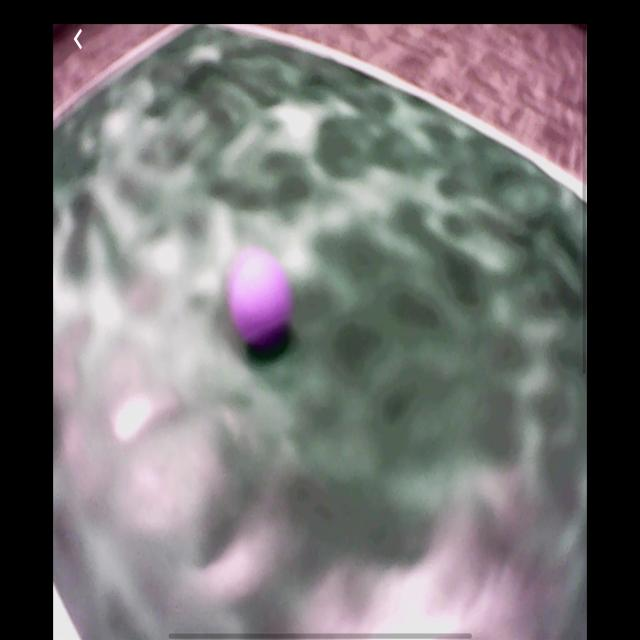ball: (225, 245, 294, 355)
